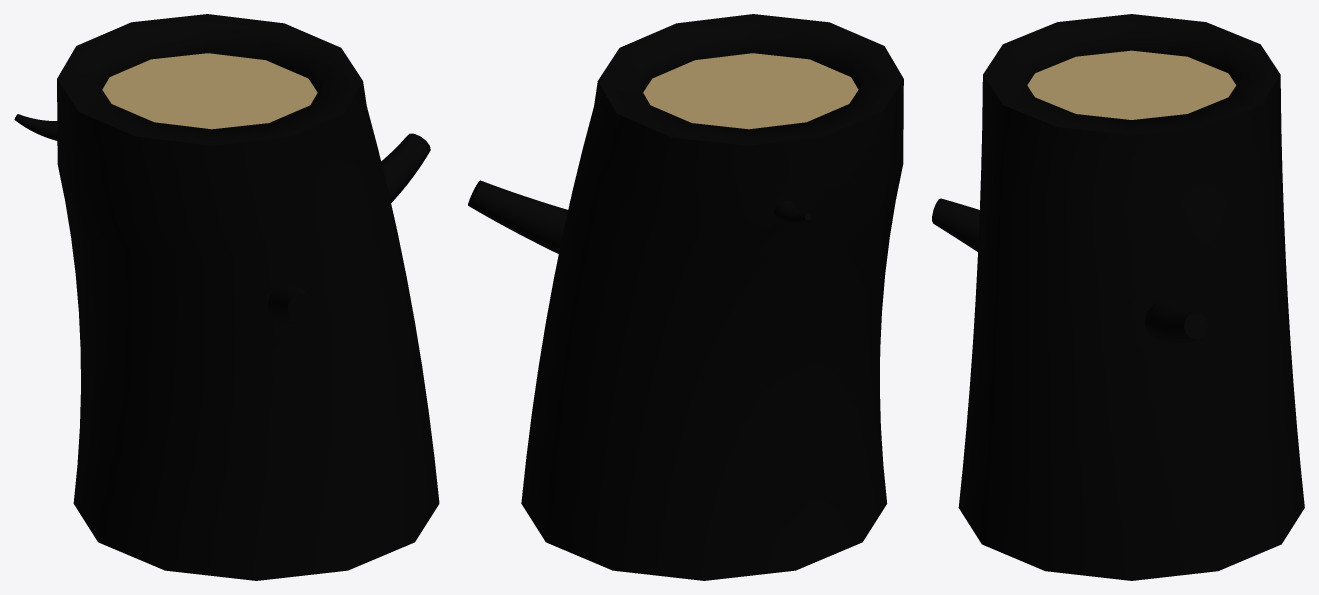
The model's file is TreeStump01.fbx.
3 views of the same model, side by side, from view 1: azimuth 30°, elevation 25°; view 2: azimuth 150°, elevation 25°; view 3: azimuth 270°, elevation 25° (orthographic). The views are drawn at different scales.
Visible parts, largest first — view 1: 21_LOD0; view 2: 21_LOD0; view 3: 21_LOD0.
Part boxes in pixels (x1=…): 21_LOD0: x1=14, y1=14, x2=439, y2=580; 21_LOD0: x1=468, y1=14, x2=903, y2=580; 21_LOD0: x1=932, y1=14, x2=1304, y2=580.
Size of what is drawn, in the model's own units: 138 by 151 by 124.
